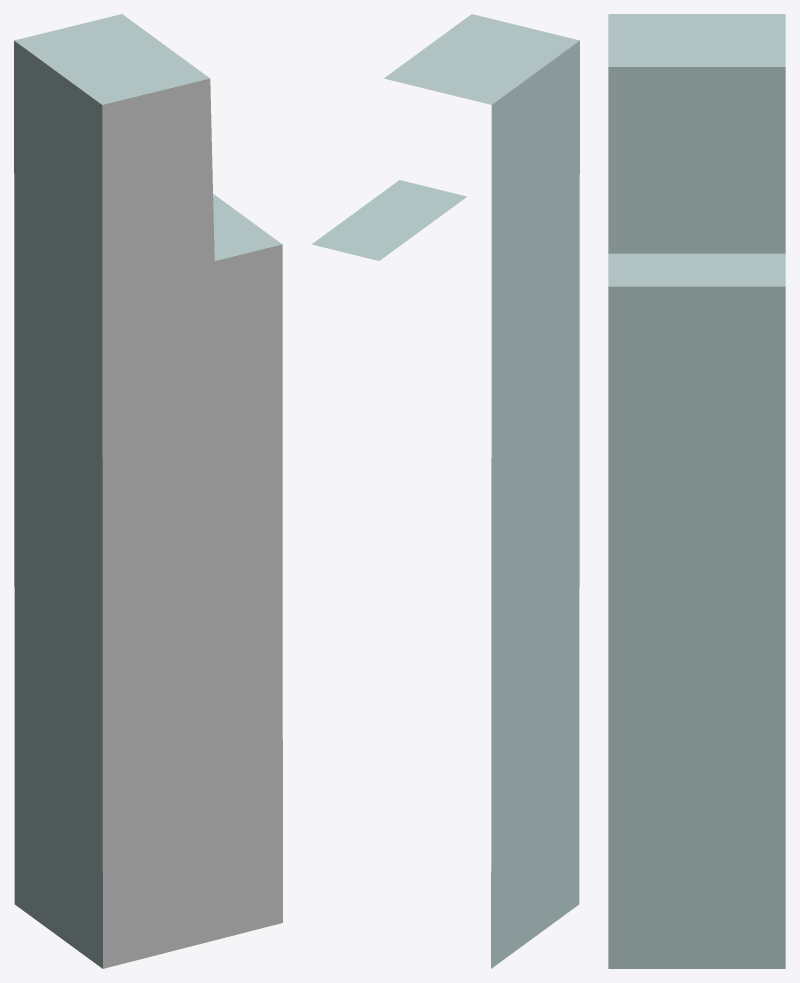
3 renders of one model, left to right at view 1: azimuth 30°, elevation 25°; view 2: azimuth 150°, elevation 25°; view 3: azimuth 270°, elevation 25°, orthographic.
Parts seen in each view (by area): view 1: 0_2_2_3_3_3_3_3_2; view 2: 0_2_2_3_3_3_3_3_2; view 3: 0_2_2_3_3_3_3_3_2.
Boxes of the visible parts, x1=… form: 0_2_2_3_3_3_3_3_2: x1=14, y1=14, x2=282, y2=968; 0_2_2_3_3_3_3_3_2: x1=312, y1=14, x2=579, y2=968; 0_2_2_3_3_3_3_3_2: x1=608, y1=14, x2=785, y2=968.
Bounding box in the file's own units: 3.55 × 16.23 × 3.
